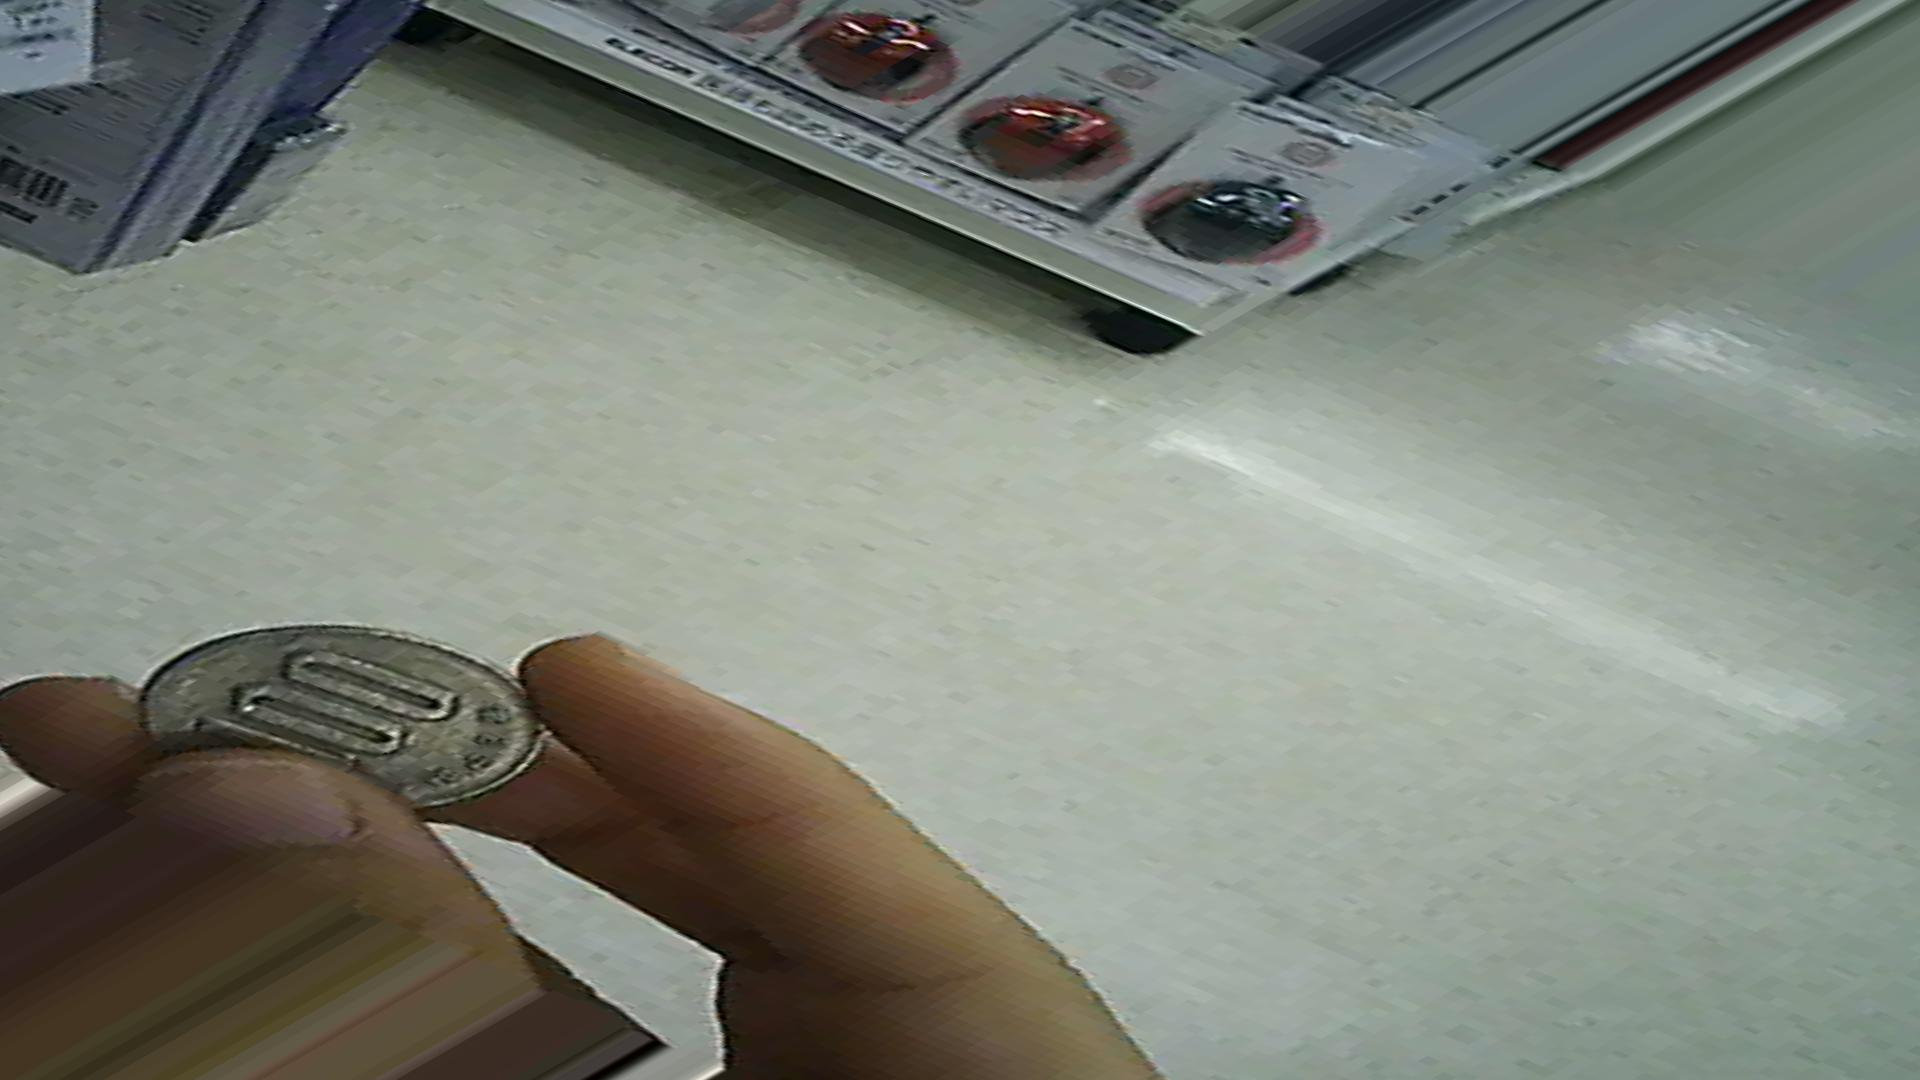100 Yen: (128, 597, 555, 828)
